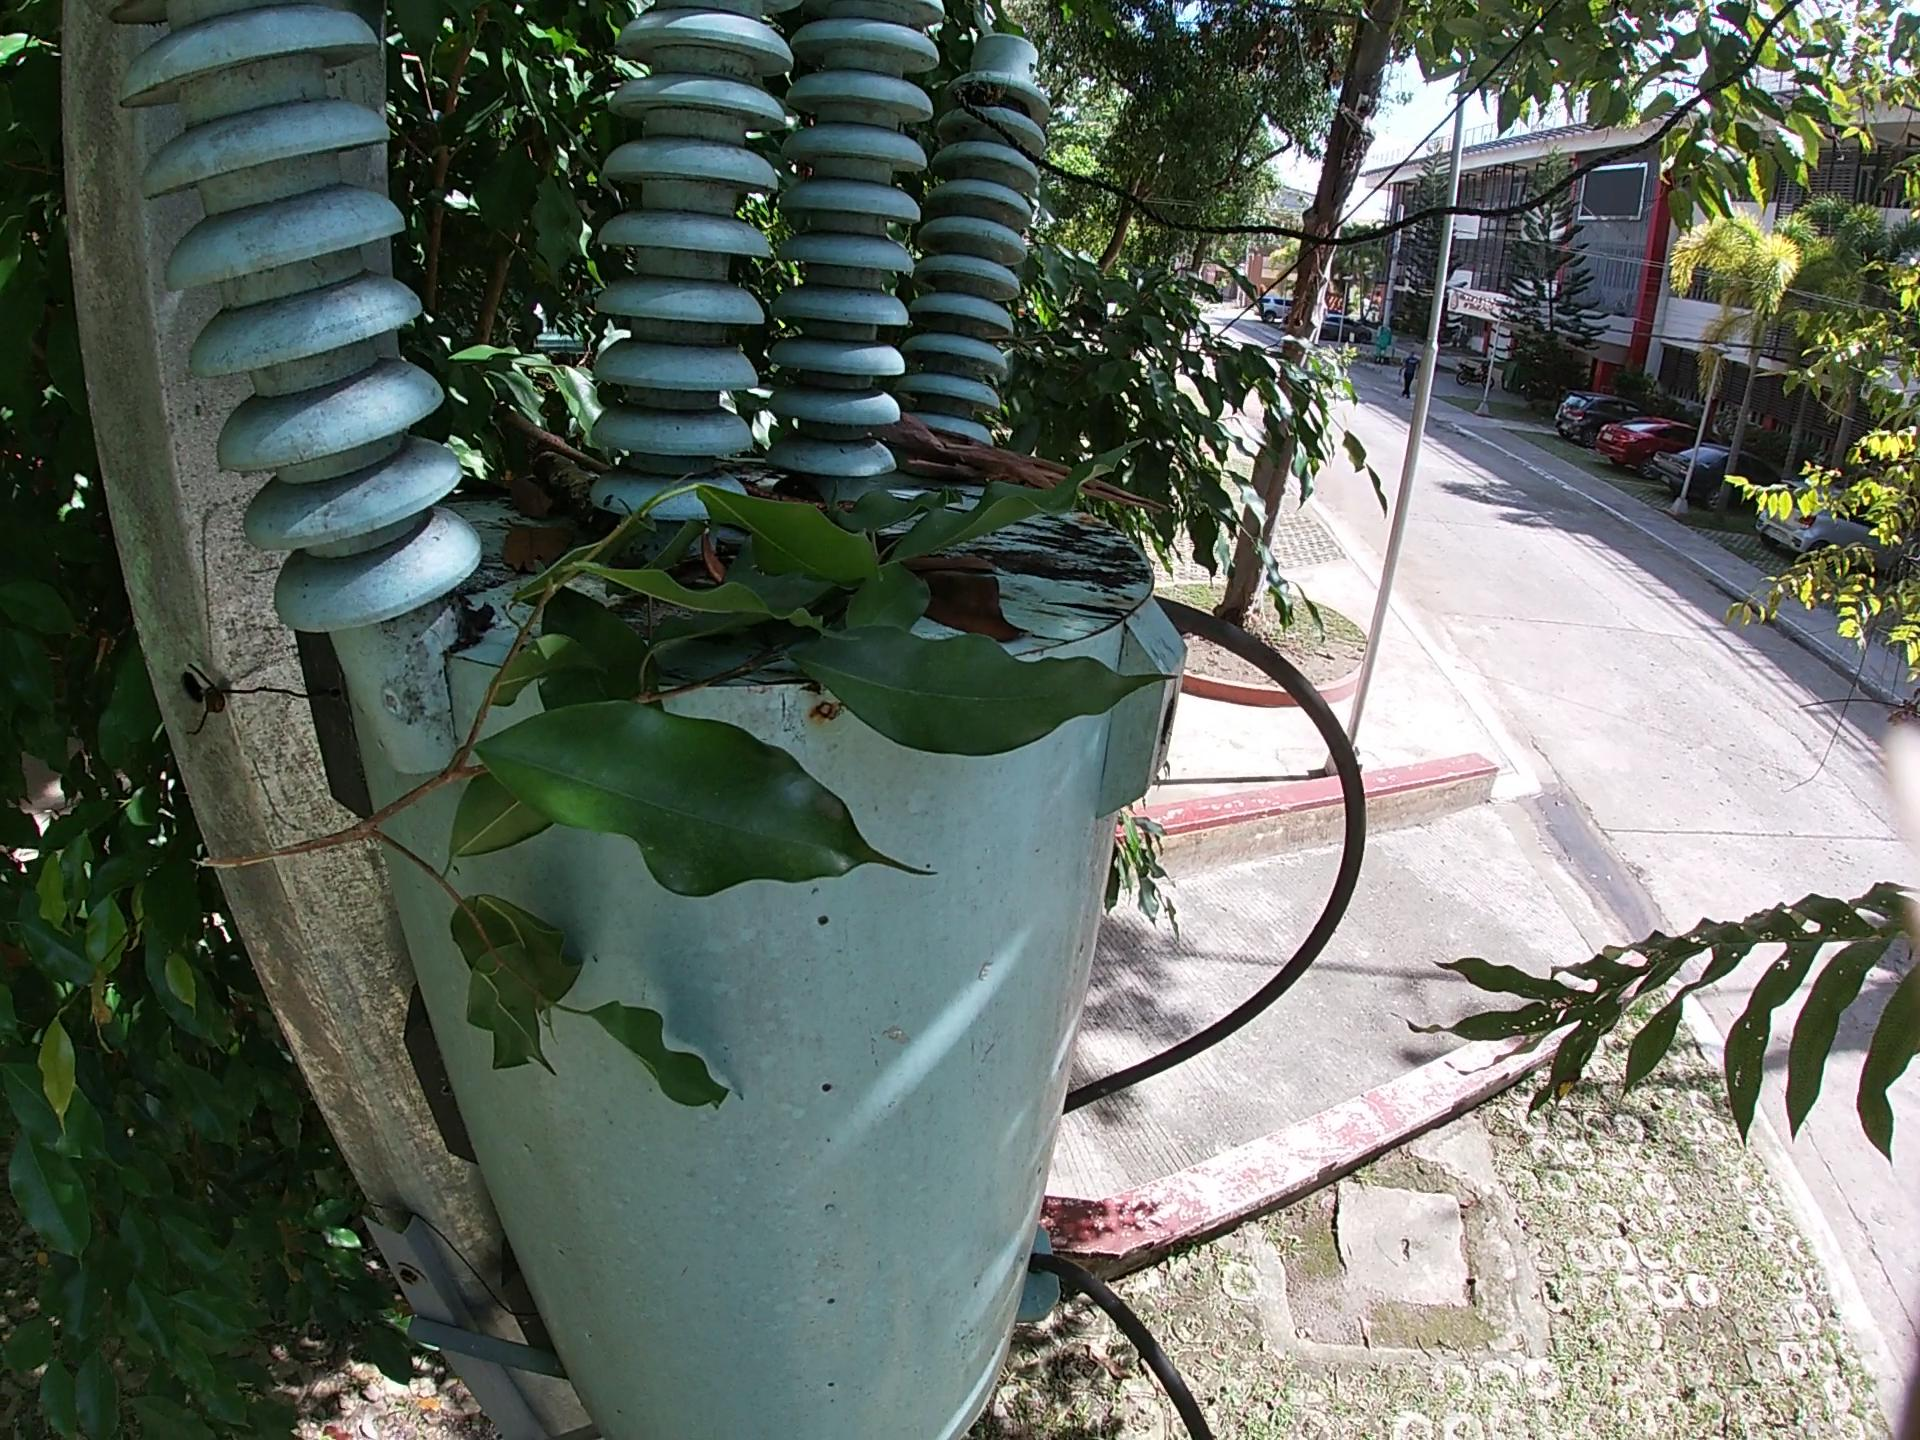branch with leaves: (184, 430, 1184, 1121)
leaf: (912, 566, 1033, 647), (499, 520, 576, 585), (496, 470, 556, 525), (903, 551, 1014, 576)
mahogany fruit: (694, 523, 736, 590)
tree branch: (892, 411, 1175, 520), (499, 408, 614, 475)
